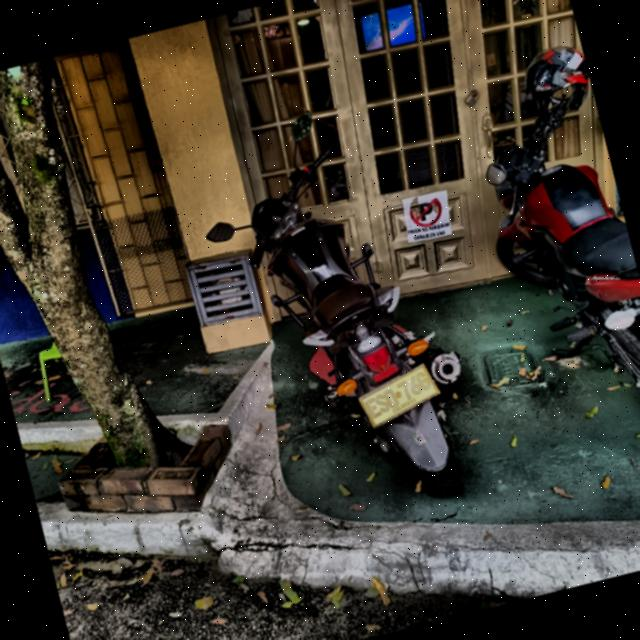plate: (359, 364, 439, 427)
